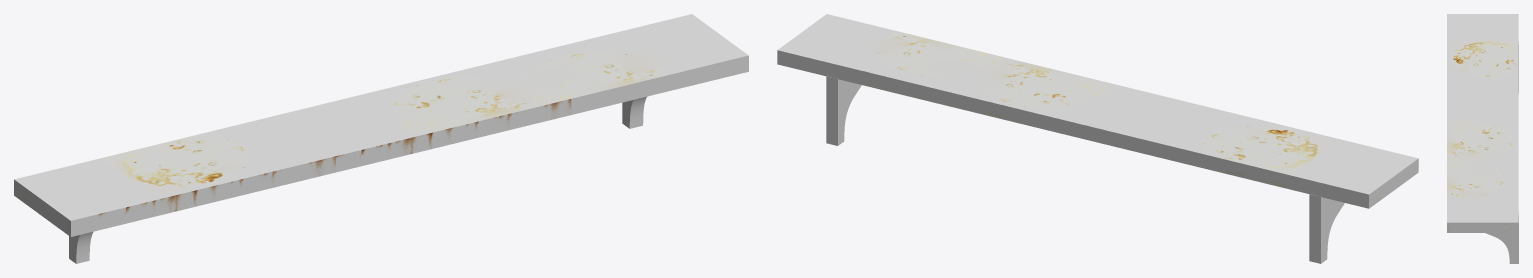
Rendered from Shelf.FBX.
The picture shows the model from 3 angles, left to right: view 1: azimuth 30°, elevation 25°; view 2: azimuth 150°, elevation 25°; view 3: azimuth 270°, elevation 25°; orthographic projection. The views are drawn at different scales.
Parts seen in each view (by area): view 1: Shelf; view 2: Shelf; view 3: Shelf.
Boxes of the visible parts, x1,y1,x2,y2 form: Shelf: (14, 14, 748, 263); Shelf: (777, 14, 1418, 263); Shelf: (1447, 14, 1518, 263).
Size of the model in its own units: 190 by 24.86 by 27.61.
1 material, 1 textured.
